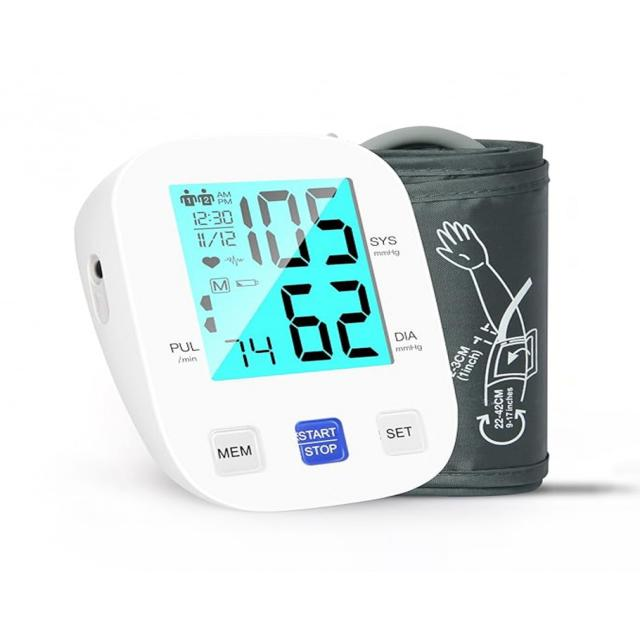dia: (267, 274, 384, 367)
pul: (216, 330, 284, 377)
ssd: (167, 142, 393, 403)
sys: (231, 183, 367, 273)
